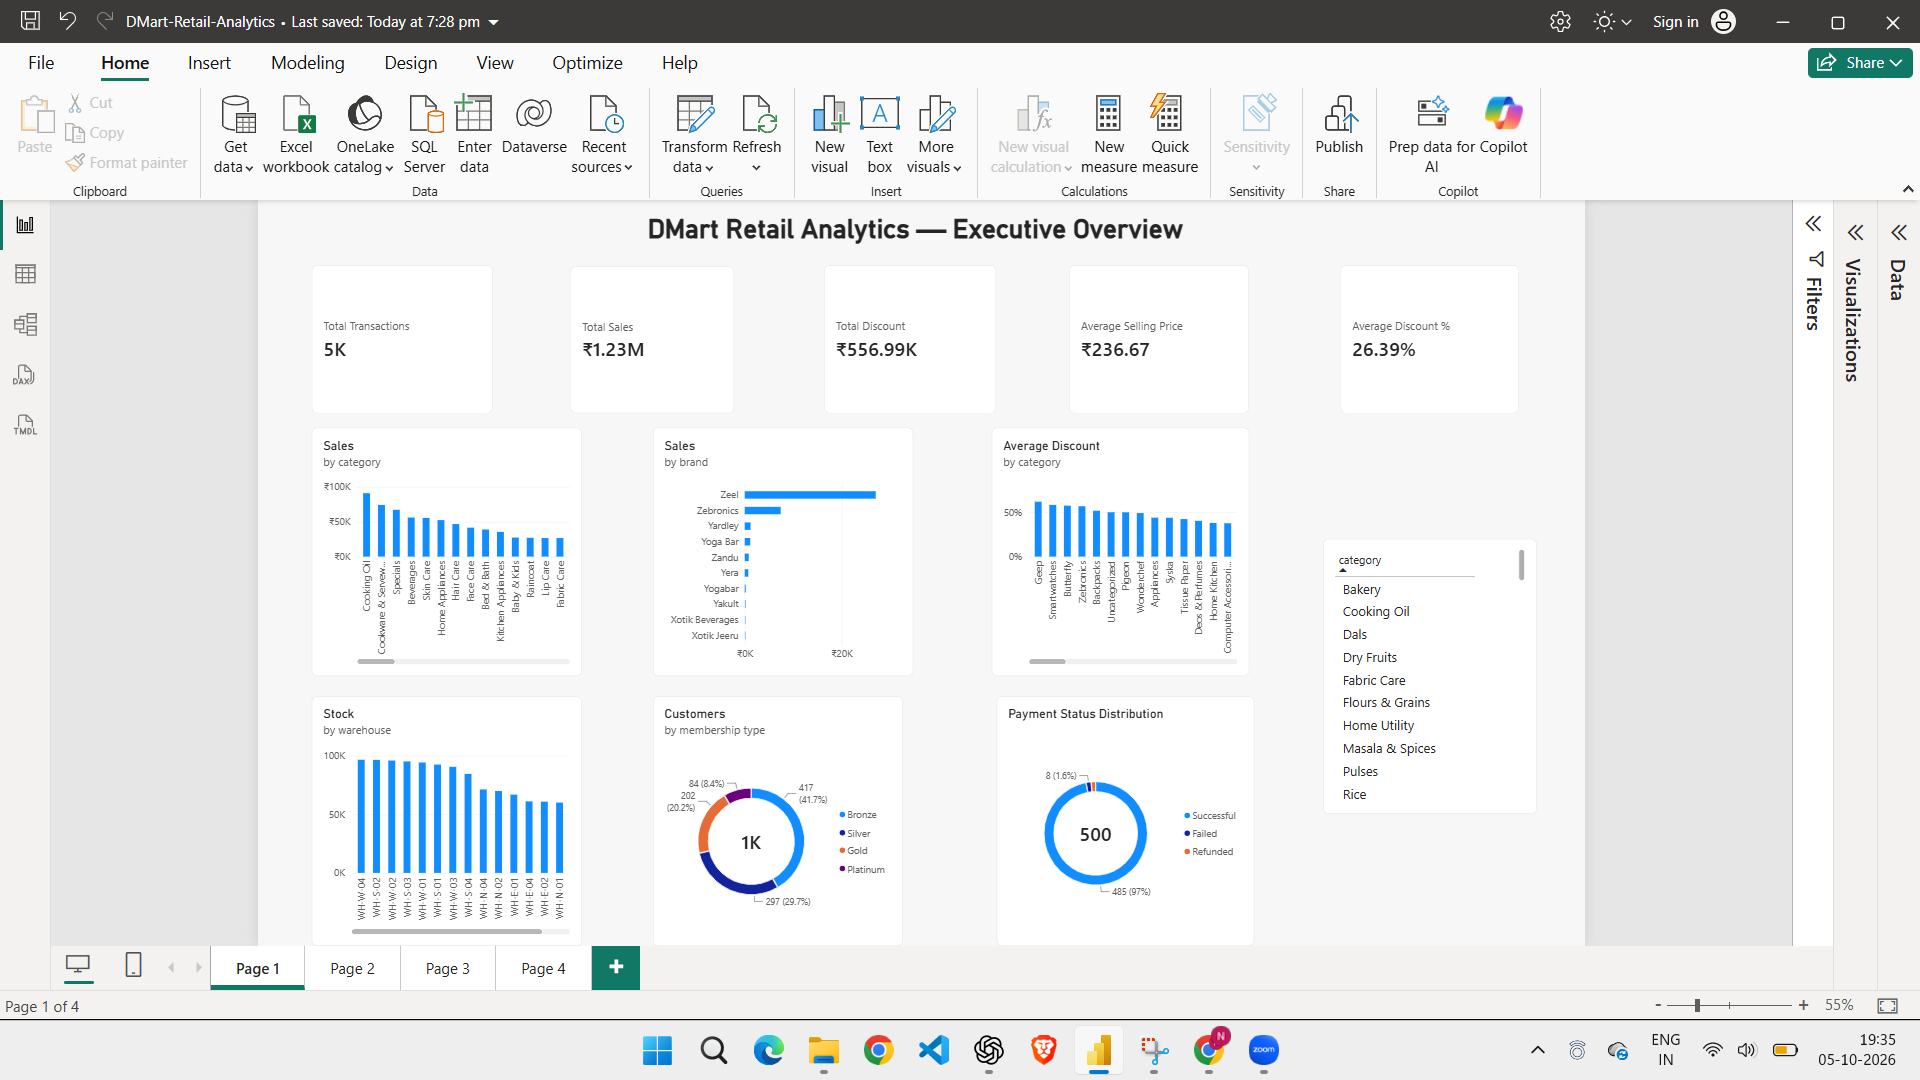

This screenshot's page, from the dashboard's own definition file:
{"tool":"powerbi","page":{"name":"Page 1","canvas":[1920,1080],"ordinal":0},"visuals":[{"type":"cardVisual","fields":{"Data":["Sales_transactions.Total Transactions"]},"box":[77.8,94.1,262.4,215.3],"z":0},{"type":"cardVisual","fields":{"Data":["Sales_transactions.Total Sales"]},"box":[452.4,95.9,237.1,213.5],"z":1000},{"type":"cardVisual","fields":{"Data":["Sales_transactions.Total Discount"]},"box":[819.8,94.1,249.7,215.3],"z":2000},{"type":"cardVisual","fields":{"Data":["Sales_transactions.Average Selling Price"]},"box":[1174.5,94.1,260.6,215.3],"z":3000},{"type":"cardVisual","fields":{"Data":["Sales_transactions.Average Discount %"]},"box":[1567.2,94.1,258.8,215.3],"z":4000},{"type":"clusteredColumnChart","title":"Sales","fields":{"Category":["Sales_transactions.category"],"Y":["Sales_transactions.Total Sales"]},"box":[77.8,329.4,390.9,360.1],"z":5000},{"type":"clusteredBarChart","title":"Sales","fields":{"Category":["Sales_transactions.brand"],"Y":["Sales_transactions.Total Sales"]},"box":[571.9,329.4,376.4,360.1],"z":6000},{"type":"clusteredColumnChart","title":"Average Discount ","fields":{"Category":["Sales_transactions.category"],"Y":["Sales_transactions.Average Discount %"]},"box":[1062.3,329.4,372.8,360.1],"z":7000},{"type":"donutChart","title":"Payment Status Distribution","fields":{"Category":["Payments.payment_status"],"Y":["Payments.Total Payments"]},"box":[1069.5,718.4,372.8,361.9],"z":8000},{"type":"clusteredColumnChart","title":"Stock","fields":{"Category":["Inventorys.warehouse_location"],"Y":["Inventorys.Total Stock"]},"box":[77.8,718.4,390.9,361.9],"z":9000},{"type":"donutChart","title":"Customers","fields":{"Category":["Customers.membership_type"],"Y":["Customers.Total Customers"]},"box":[571.9,718.4,361.9,361.9],"z":10000},{"type":"textbox","box":[77.8,0,1748.1,94.1],"z":11000},{"type":"tableEx","fields":{"Values":["Sales_transactions.category"]},"box":[1541.8,490.4,309.5,398.1],"z":11002}]}

Visuals, with their boxes on the page's 1920x1080 design canvas (x1, y1, x2, y2). These are canvas units, not pixel positions in the 1920x1080 screenshot, which may show the page scaled, cropped or inside an application window:
cardVisual - Sales_transactions.Total Transactions: x1=78, y1=94, x2=340, y2=309
cardVisual - Sales_transactions.Total Sales: x1=452, y1=96, x2=690, y2=309
cardVisual - Sales_transactions.Total Discount: x1=820, y1=94, x2=1070, y2=309
cardVisual - Sales_transactions.Average Selling Price: x1=1174, y1=94, x2=1435, y2=309
cardVisual - Sales_transactions.Average Discount %: x1=1567, y1=94, x2=1826, y2=309
"Sales" clusteredColumnChart: x1=78, y1=329, x2=469, y2=690
"Sales" clusteredBarChart: x1=572, y1=329, x2=948, y2=690
"Average Discount " clusteredColumnChart: x1=1062, y1=329, x2=1435, y2=690
"Payment Status Distribution" donutChart: x1=1070, y1=718, x2=1442, y2=1080
"Stock" clusteredColumnChart: x1=78, y1=718, x2=469, y2=1080
"Customers" donutChart: x1=572, y1=718, x2=934, y2=1080
textbox: x1=78, y1=0, x2=1826, y2=94
tableEx - Sales_transactions.category: x1=1542, y1=490, x2=1851, y2=888
